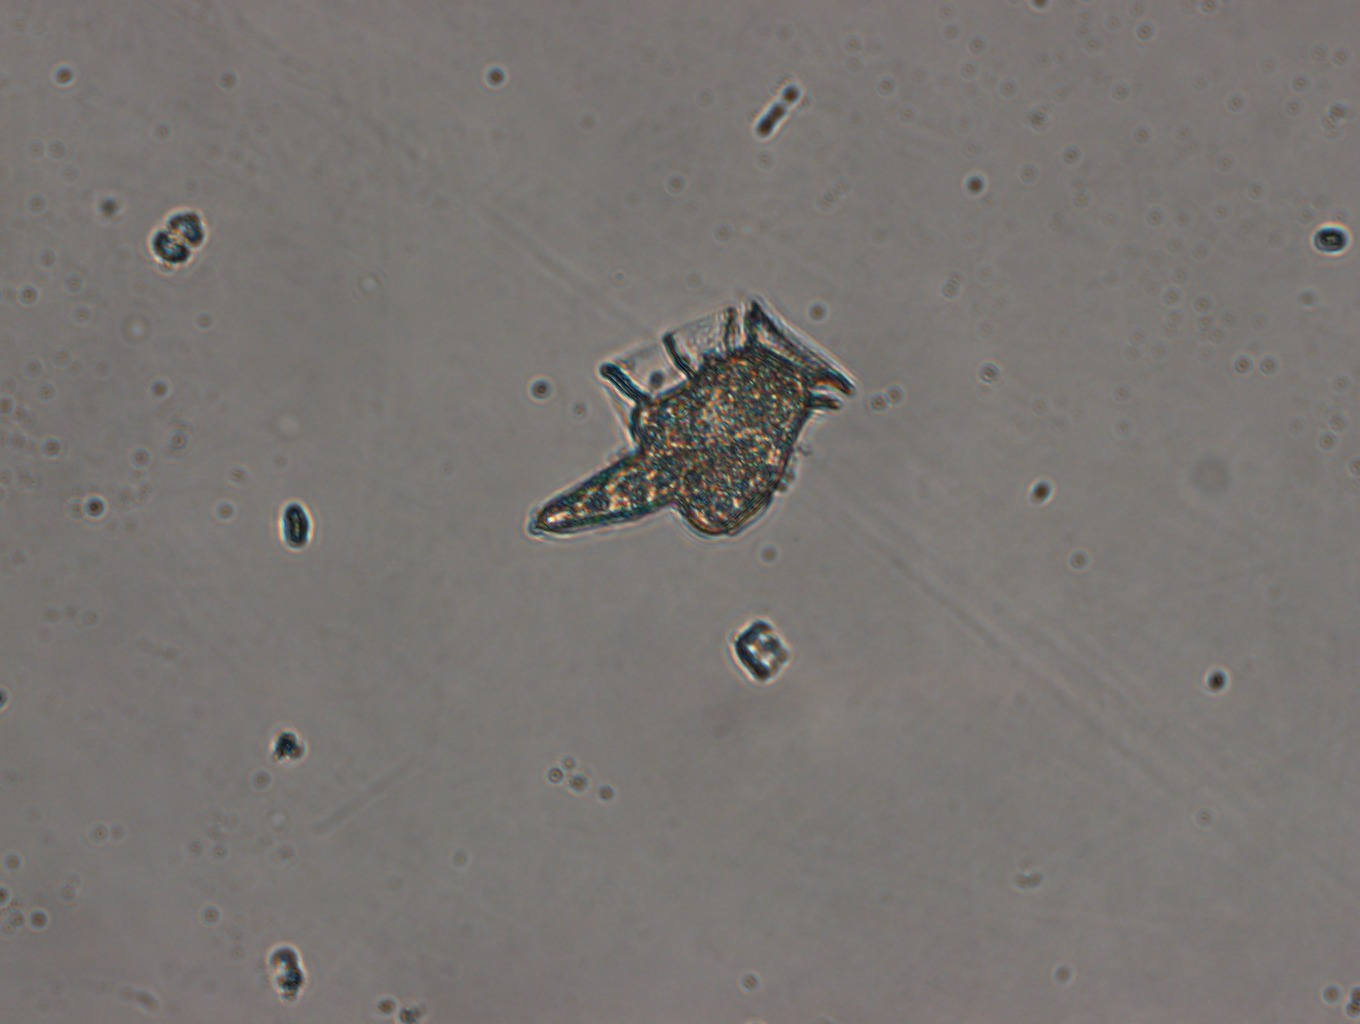dinophysis caudata: (525, 296, 856, 542)
